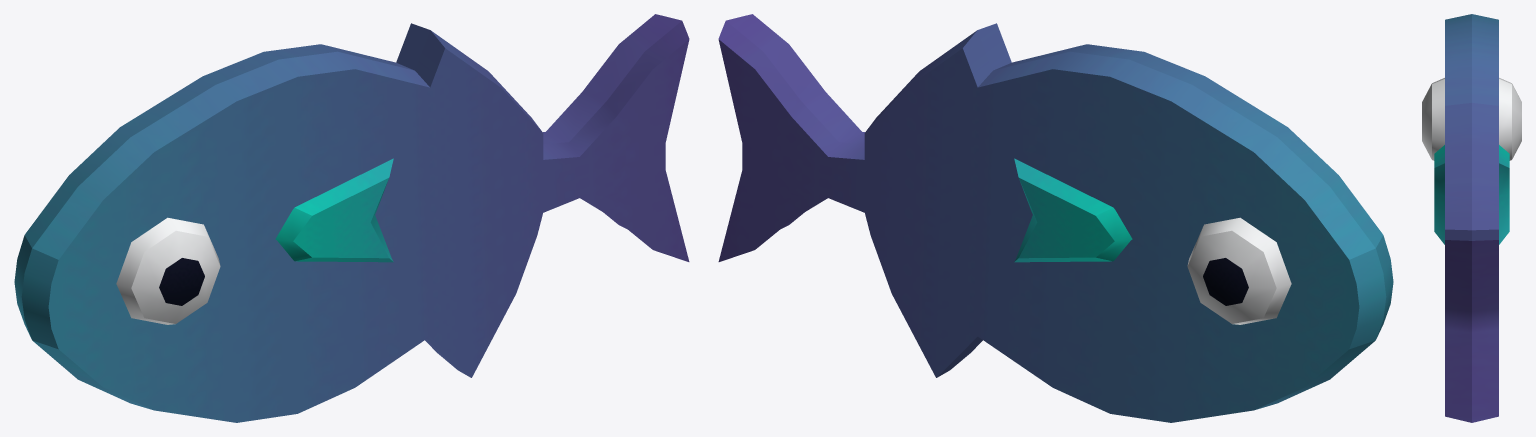
File: Fishy 1.fbx
3 views of the same model, side by side, from view 1: azimuth 30°, elevation 25°; view 2: azimuth 150°, elevation 25°; view 3: azimuth 270°, elevation 25° (orthographic). The views are drawn at different scales.
Visible parts, largest first — view 1: Fishy; view 2: Fishy; view 3: Fishy.
Part boxes in pixels (box(x1,y1,x2,y2)): Fishy: box(14, 14, 689, 422); Fishy: box(718, 14, 1393, 422); Fishy: box(1422, 14, 1521, 422).
Size of the model in its own units: 34.08 by 17.47 by 5.64.
